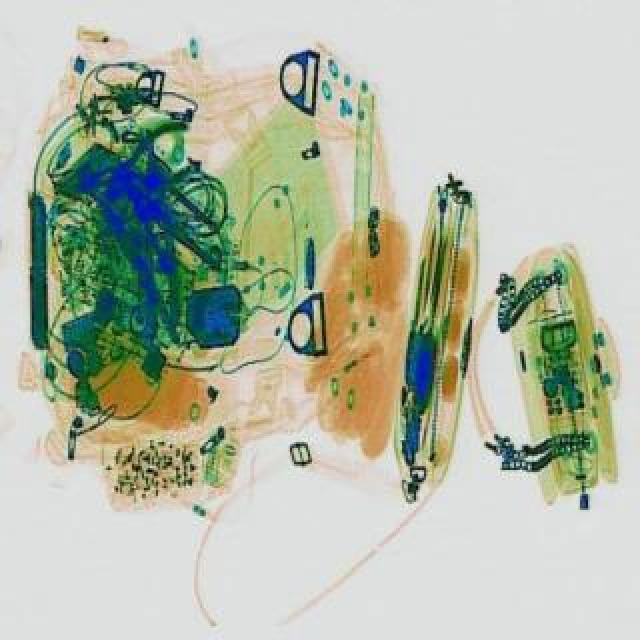wrench: (52, 148, 244, 340), (64, 116, 204, 212)
